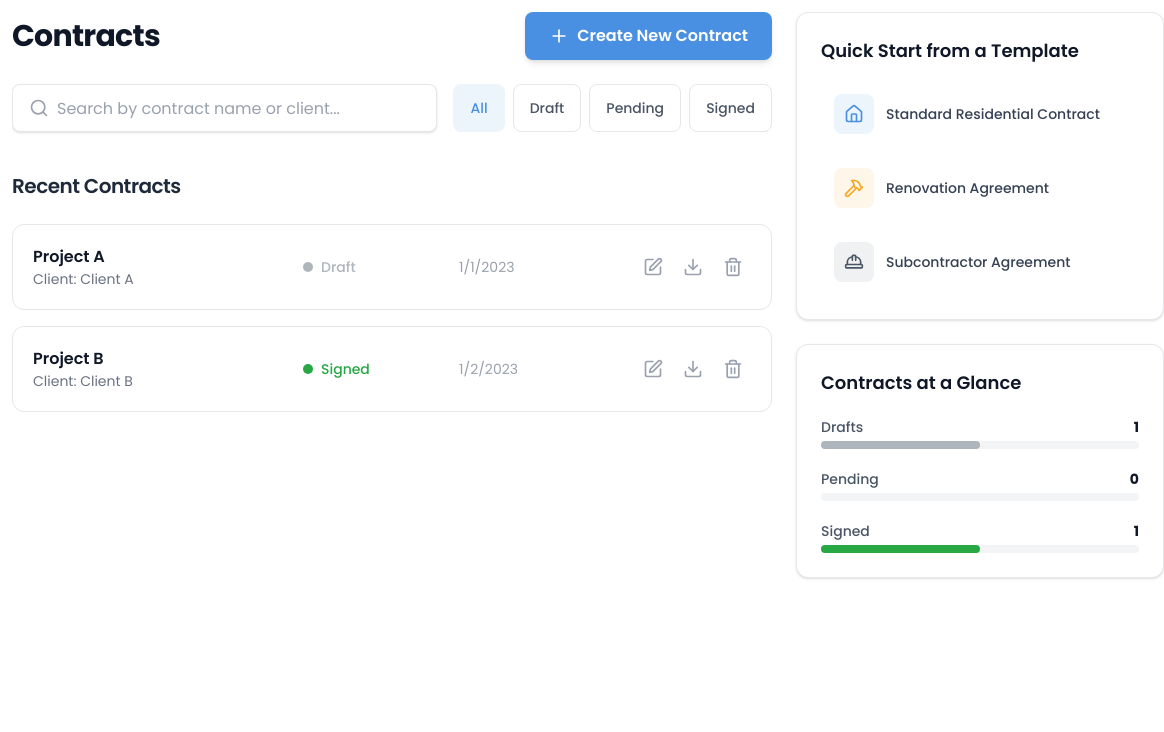
Test: ContractsPage › filters contracts by search query
Expected: the heading "Project A" is shown, top-left (33, 245), bottom-right (105, 268)
Type "Client B" into the field with placeholder "Search by contract name or client..." at (243, 108), box top-left (49, 85), bottom-right (436, 131)
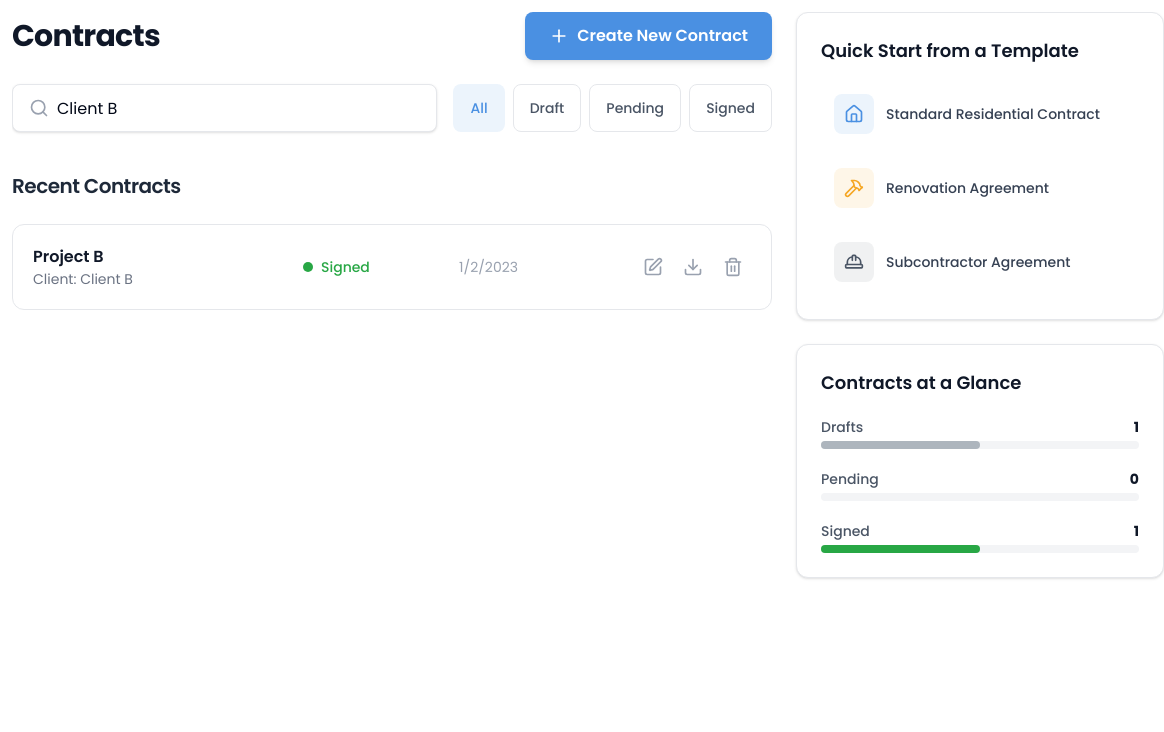
Expected: the heading "Project B" is shown, top-left (33, 245), bottom-right (104, 268)
Result: the heading "Project A" is gone
